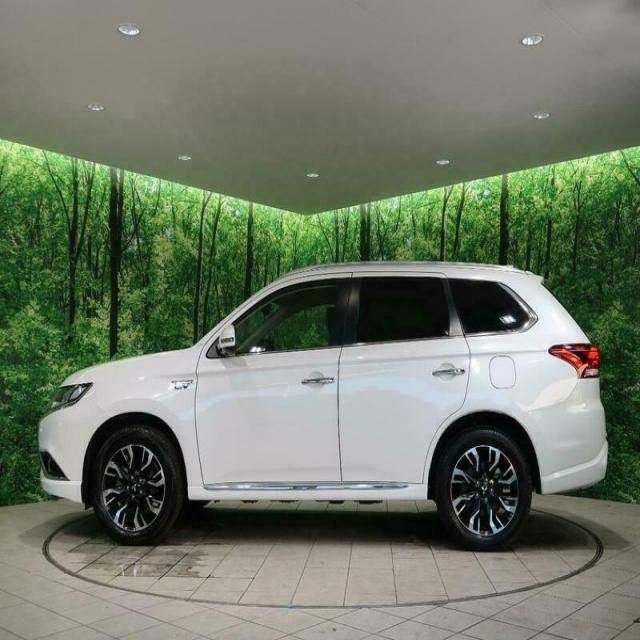light_vehicle: (37, 260, 608, 552)
